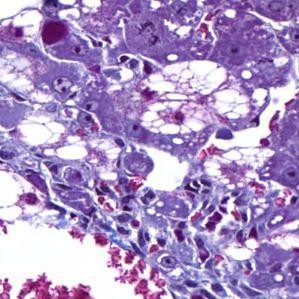ballooning: (139, 58, 251, 135), (2, 48, 42, 106)
